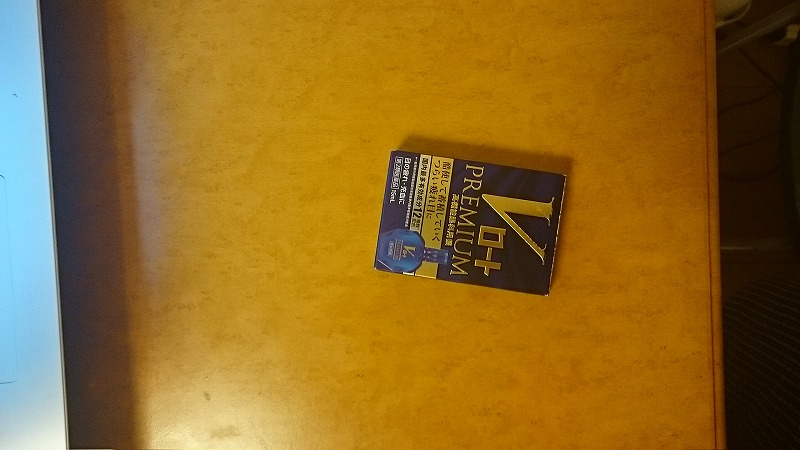D: (367, 148, 578, 302)
